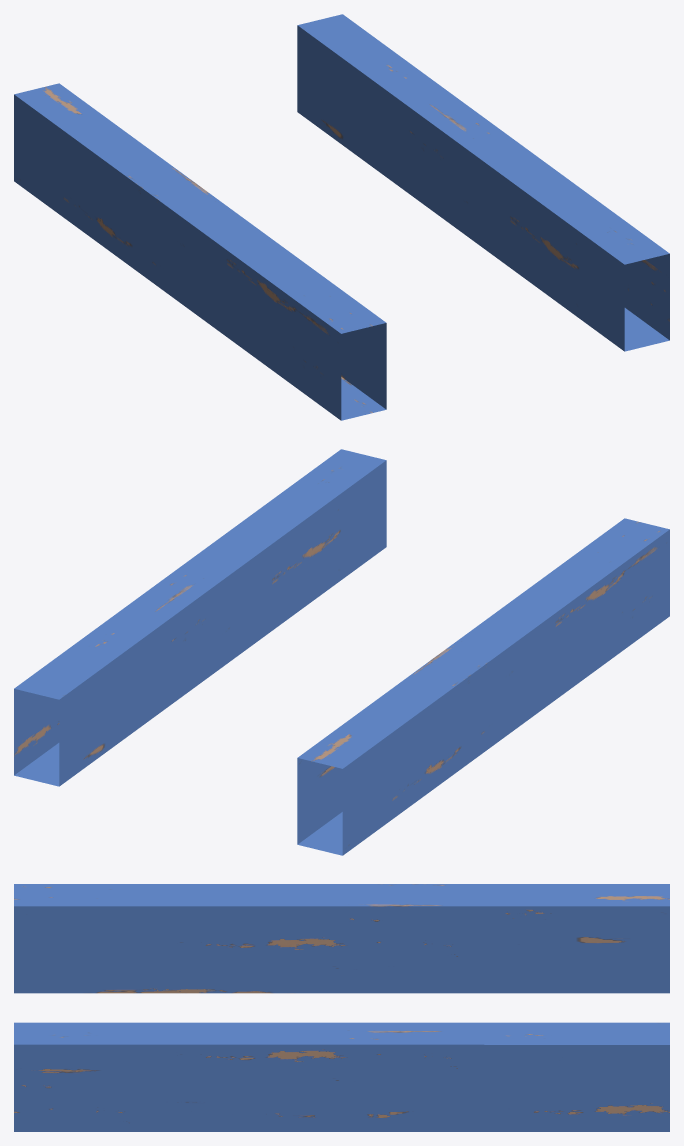
The model's file is Pergola.fbx.
3 renders of one model, top to bottom at view 1: azimuth 30°, elevation 25°; view 2: azimuth 150°, elevation 25°; view 3: azimuth 270°, elevation 25°, orthographic.
Parts seen in each view (by area): view 1: Pergola; view 2: Pergola; view 3: Pergola.
Boxes of the visible parts, left/top/right/bottom form: Pergola: left=14, top=14, right=669, bottom=420; Pergola: left=14, top=449, right=669, bottom=855; Pergola: left=14, top=884, right=669, bottom=1131.
Size of the model in its own units: 58 by 14.66 by 100.
Materials: 1 (1 with a texture image).
